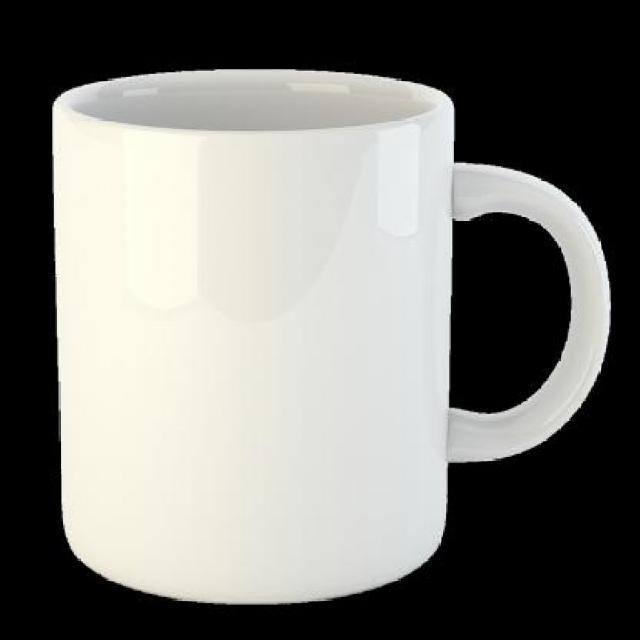taza: (52, 67, 616, 608)
